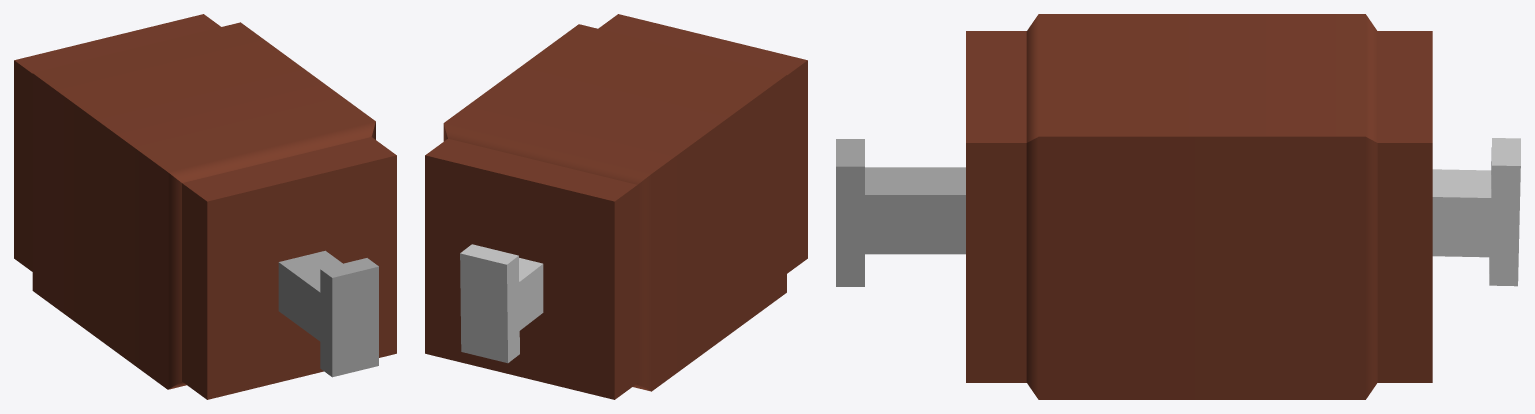
The model's file is Meat.fbx.
The picture shows the model from 3 angles, left to right: view 1: azimuth 30°, elevation 25°; view 2: azimuth 150°, elevation 25°; view 3: azimuth 270°, elevation 25°; orthographic projection. The views are drawn at different scales.
Visible parts, largest first — view 1: pCube5, pCube3; view 2: pCube5, pCube4; view 3: pCube5, pCube3, pCube4.
Boxes of the visible parts, x1,y1,x2,y2 form: pCube5: [14, 14, 396, 399]; pCube3: [278, 250, 378, 377]; pCube5: [425, 14, 807, 399]; pCube4: [460, 244, 543, 363]; pCube5: [966, 14, 1432, 399]; pCube3: [836, 139, 965, 286]; pCube4: [1432, 138, 1520, 286].
Size of the model in its own units: 1.15 by 1.15 by 2.71.
